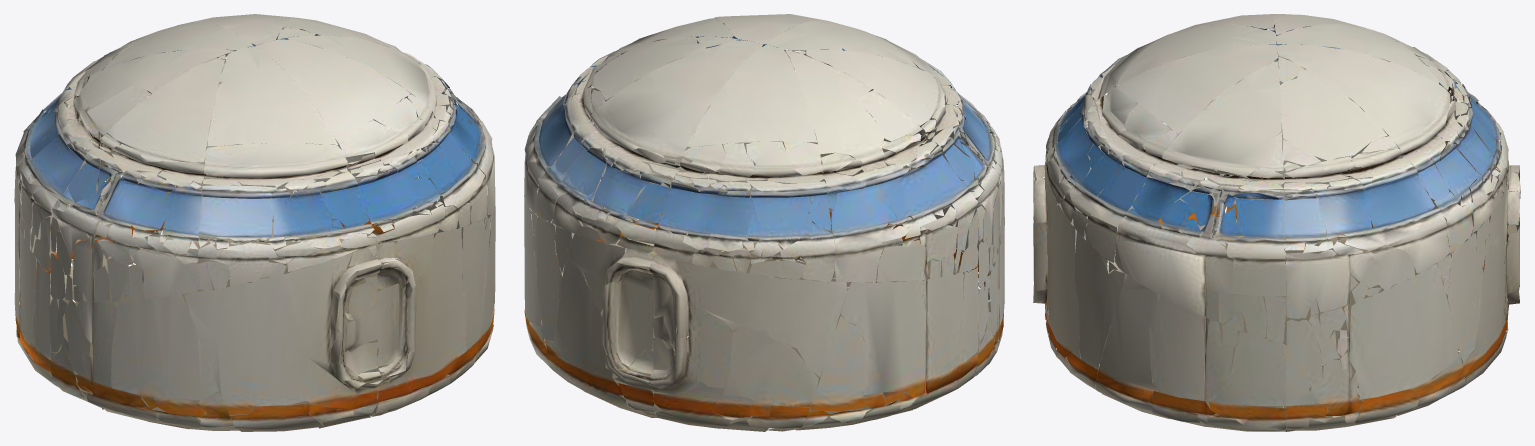
File: mars_hab_pod2.glb
3 views of the same model, side by side, from view 1: azimuth 30°, elevation 25°; view 2: azimuth 150°, elevation 25°; view 3: azimuth 270°, elevation 25° (orthographic).
Visible parts, largest first — view 1: mars_hab_pod2; view 2: mars_hab_pod2; view 3: mars_hab_pod2.
Boxes of the visible parts, bbox=[...] form: mars_hab_pod2: bbox=[14, 14, 495, 431]; mars_hab_pod2: bbox=[524, 14, 1004, 431]; mars_hab_pod2: bbox=[1033, 14, 1520, 431].
Size of the model in its own units: 7.42 by 4.99 by 7.51.
Materials: 1 (1 with a texture image).
